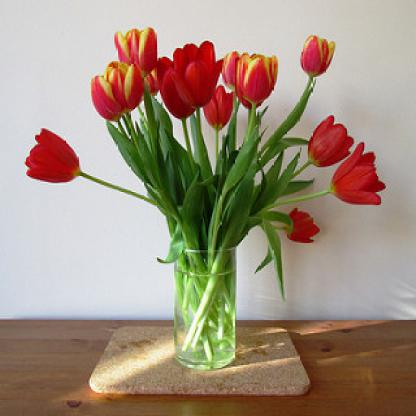TULIP: (31, 29, 391, 256)
